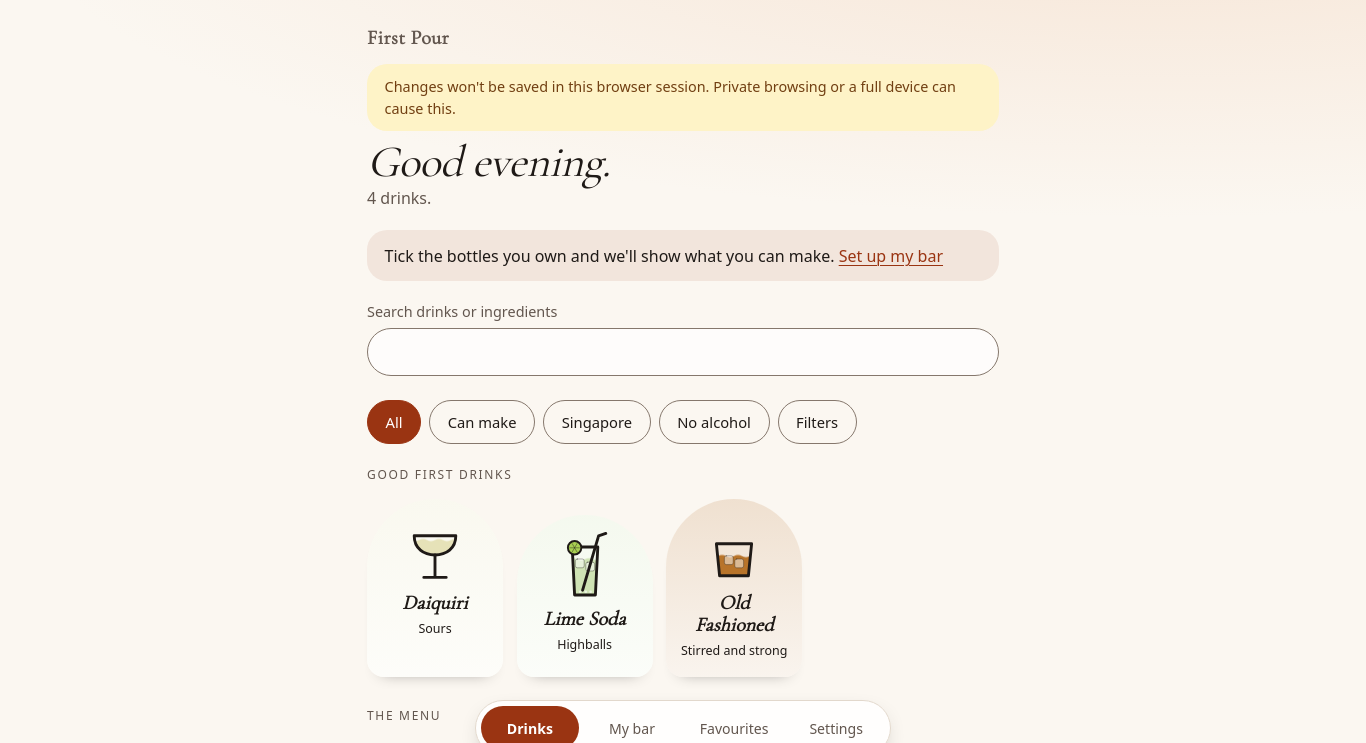
it: shows a helpful message and a clear-filters button when nothing matches
Type "zzz" into the search field labelled "Search drinks or ingredients" at (683, 352), box [367,328,999,376]
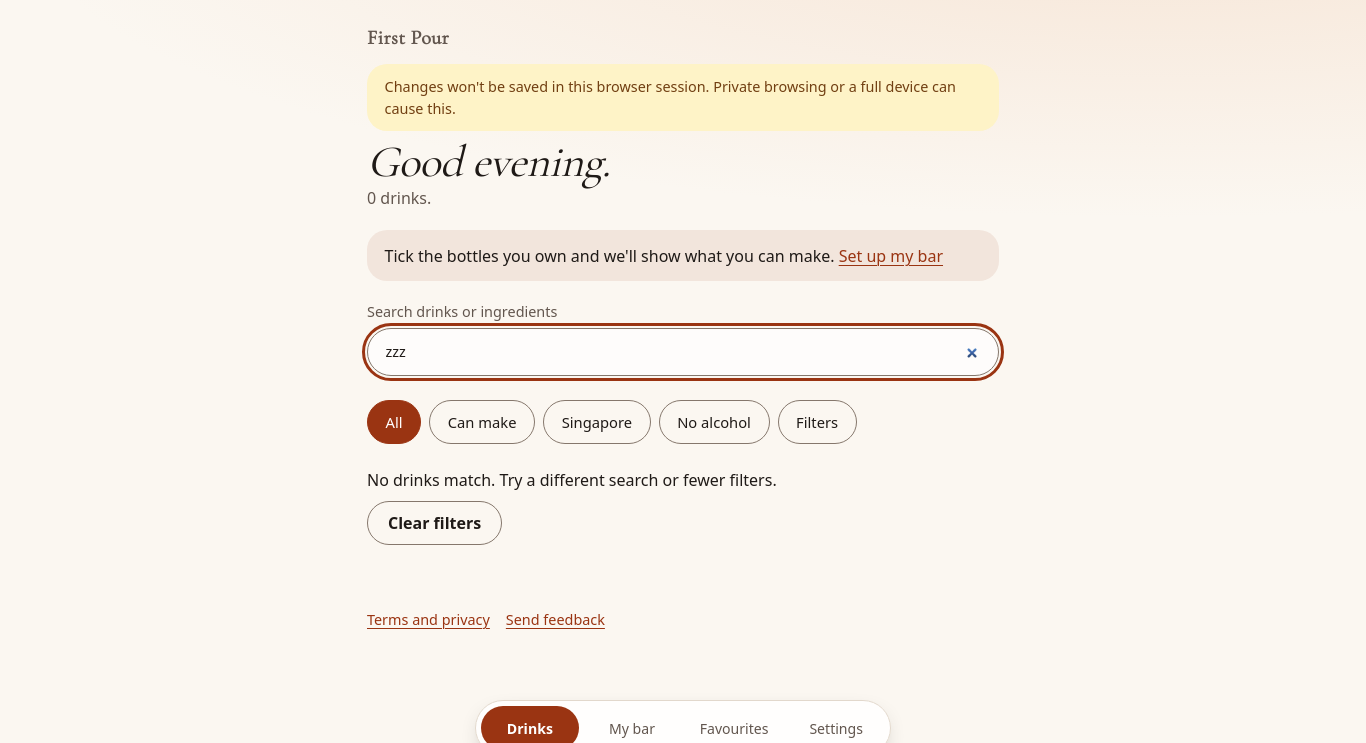
Expected: the text "No drinks match. Try a different search or fewer filters." is shown, [367,469,777,491]
Click the button "Clear filters" at (435, 523), box [367,501,502,545]
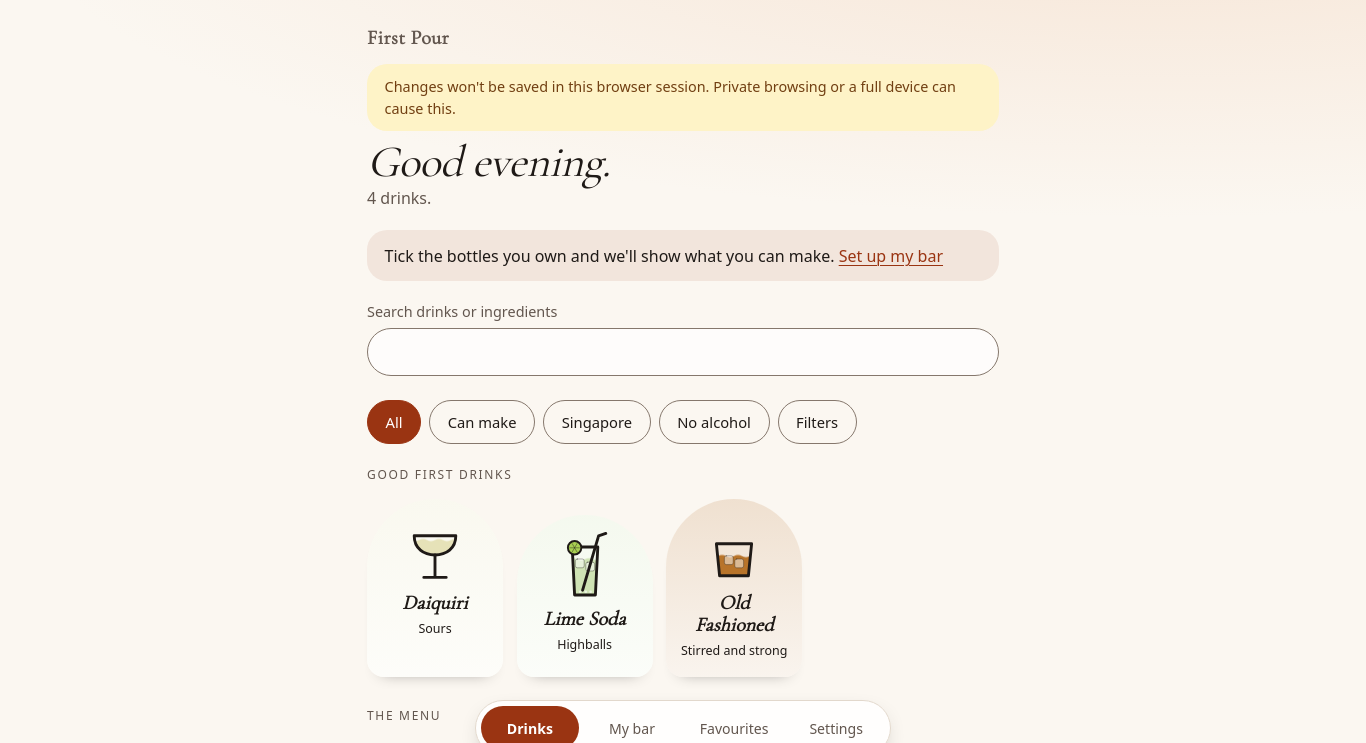
Expected: the search field labelled "Search drinks or ingredients" is empty, [367,328,999,376]
